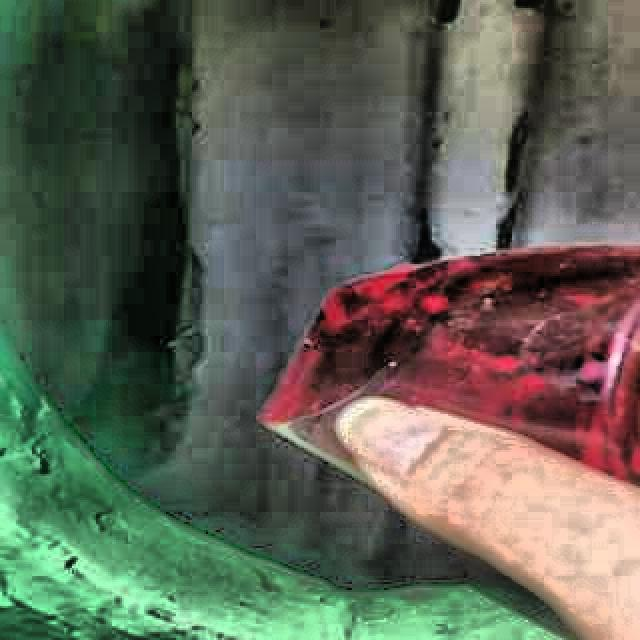glass: (264, 246, 640, 488)
